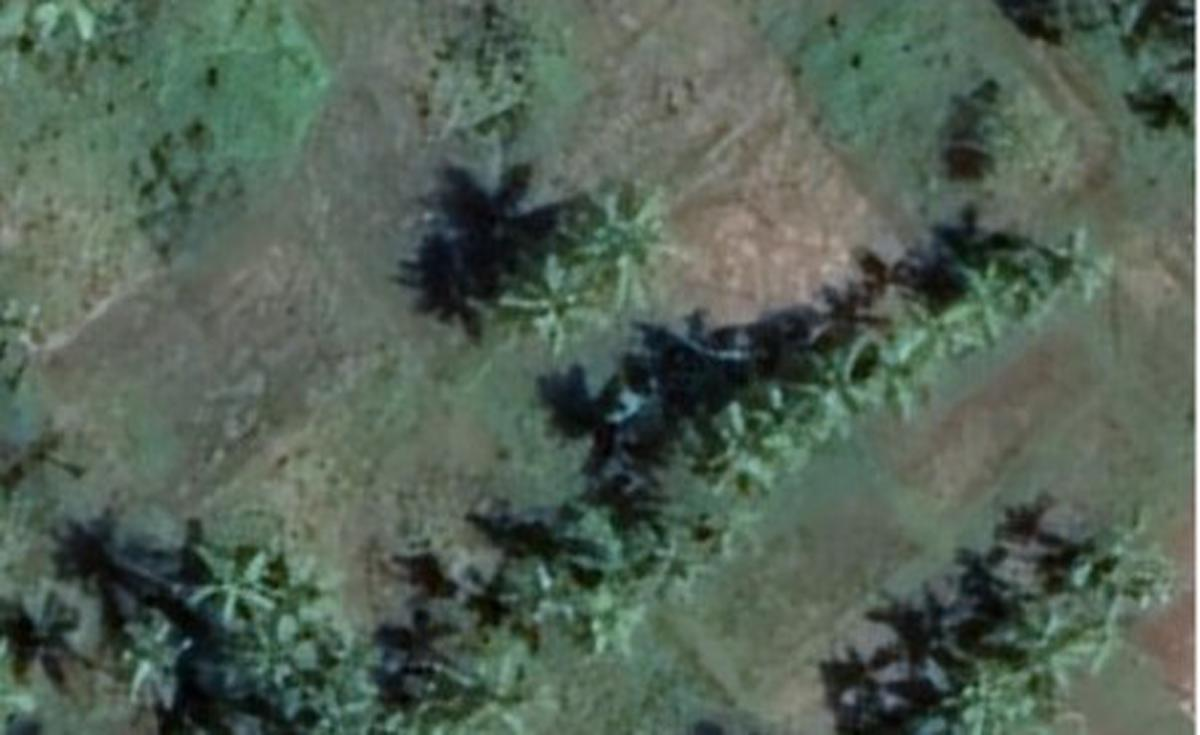coconut: (555, 181, 686, 294), (173, 531, 288, 628), (999, 585, 1111, 681), (438, 652, 561, 732), (785, 334, 881, 435), (694, 398, 788, 499), (510, 248, 604, 347), (98, 617, 192, 710), (943, 261, 1034, 347), (1042, 221, 1127, 302), (566, 585, 649, 660), (951, 657, 1034, 724)
